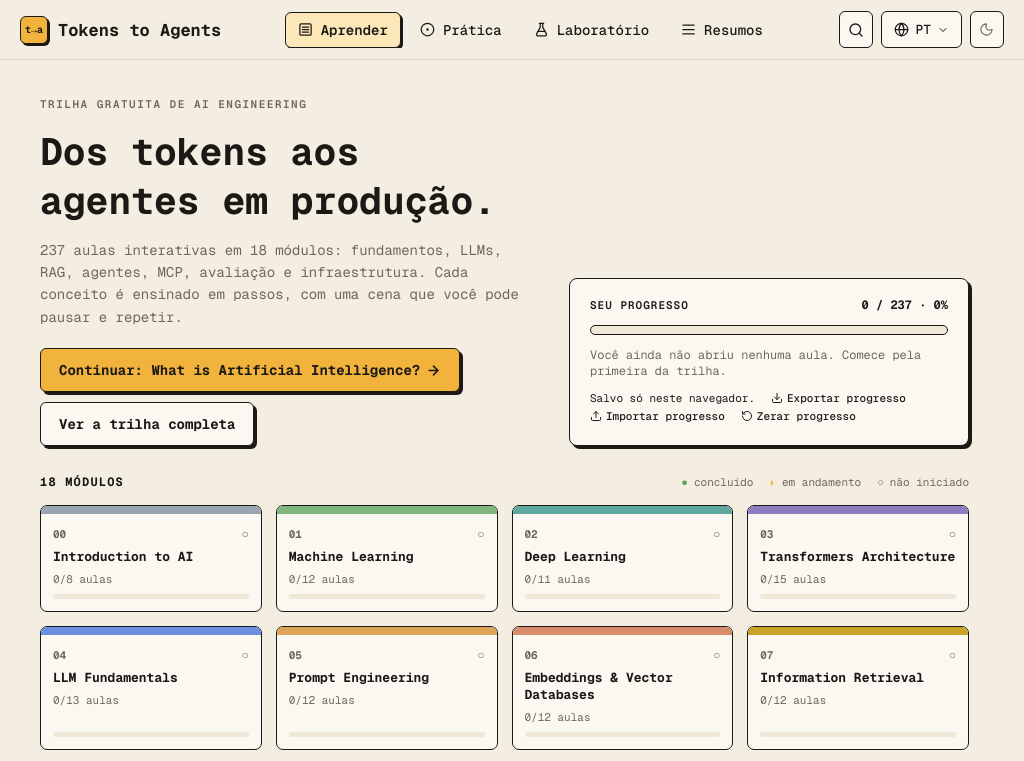
App › na primeira visita, a home leva à aula 00.01
Click the link "Continuar: What is Artificial Intelligence?".
click(250, 370)  # box [40,348,460,392]
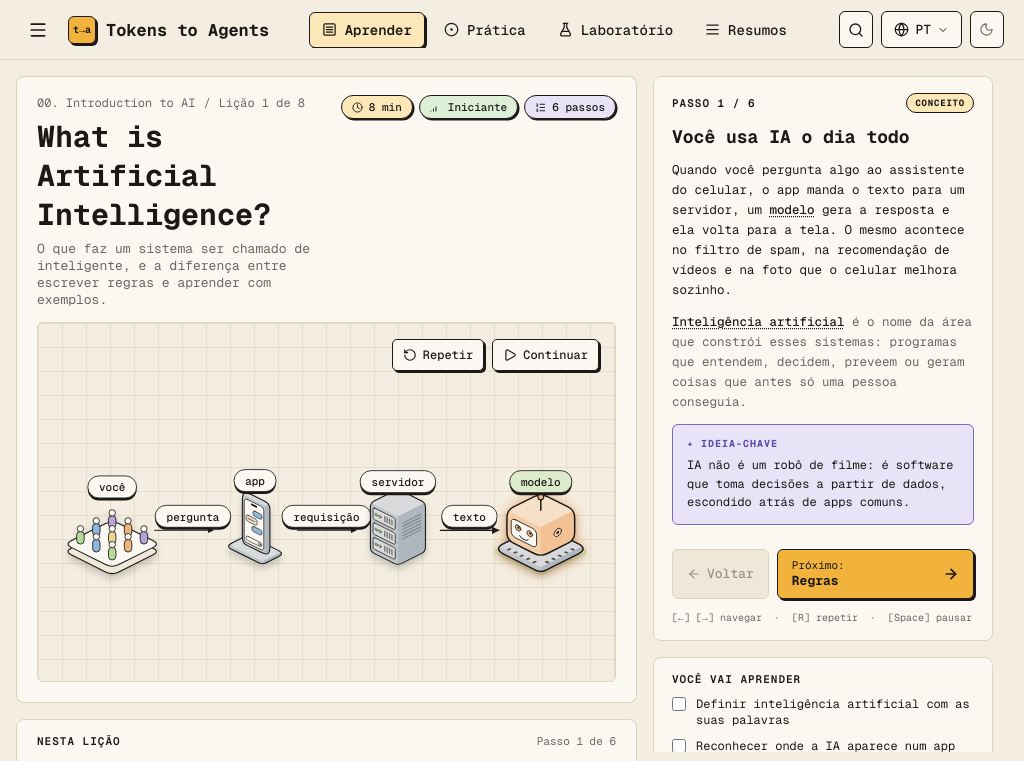
expect the navigation bar named "Breadcrumb" shows "Lição 1 de 8": met, box [219,95,305,111]
